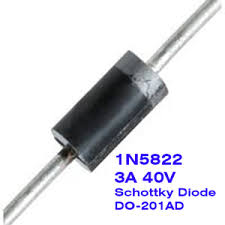diode: (34, 41, 178, 174)
